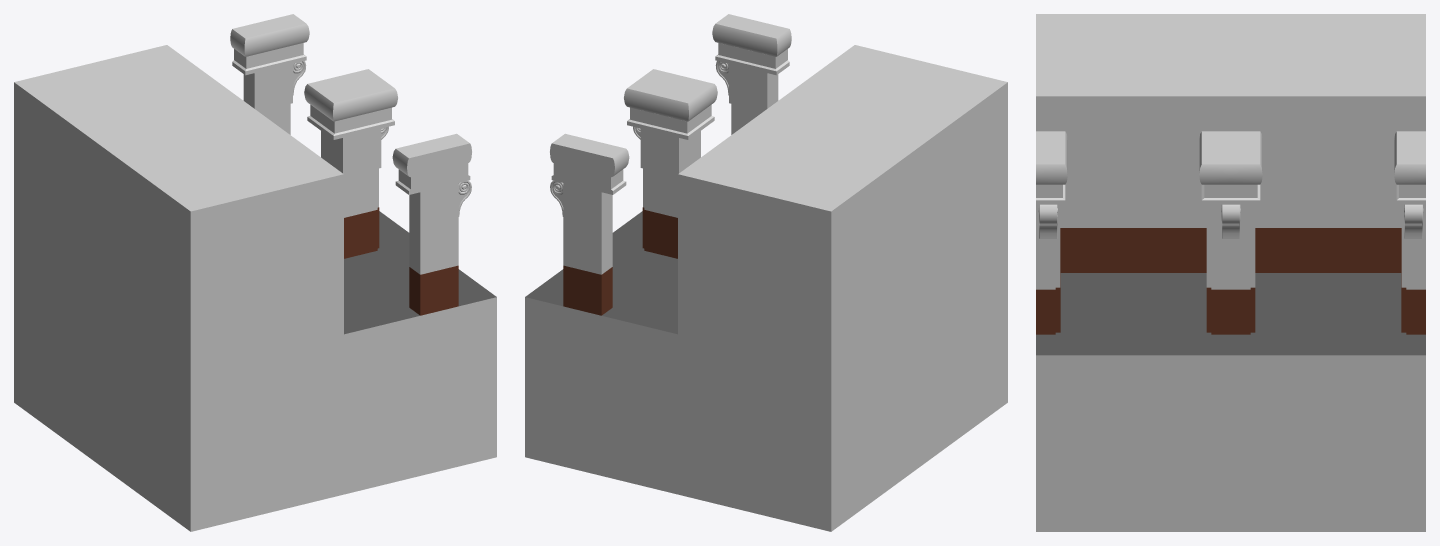
Rendered from House_Base_Straight_Front_var0.fbx.
3 views of the same model, side by side, from view 1: azimuth 30°, elevation 25°; view 2: azimuth 150°, elevation 25°; view 3: azimuth 270°, elevation 25° (orthographic). The views are drawn at different scales.
Visible parts, largest first — view 1: House_Base_Straight_Front_MESH; view 2: House_Base_Straight_Front_MESH; view 3: House_Base_Straight_Front_MESH.
Boxes of the visible parts, x1,y1,x2,y2 form: House_Base_Straight_Front_MESH: (14, 14, 496, 531); House_Base_Straight_Front_MESH: (525, 14, 1007, 531); House_Base_Straight_Front_MESH: (1036, 14, 1425, 531).
Bounding box in the file's own units: 4 × 4 × 4.
